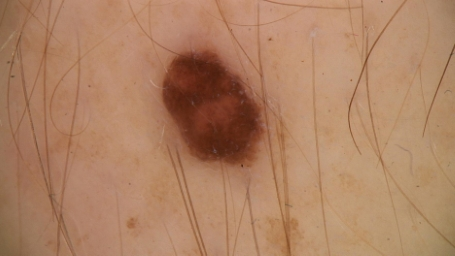melanoma: (160, 48, 266, 170)
